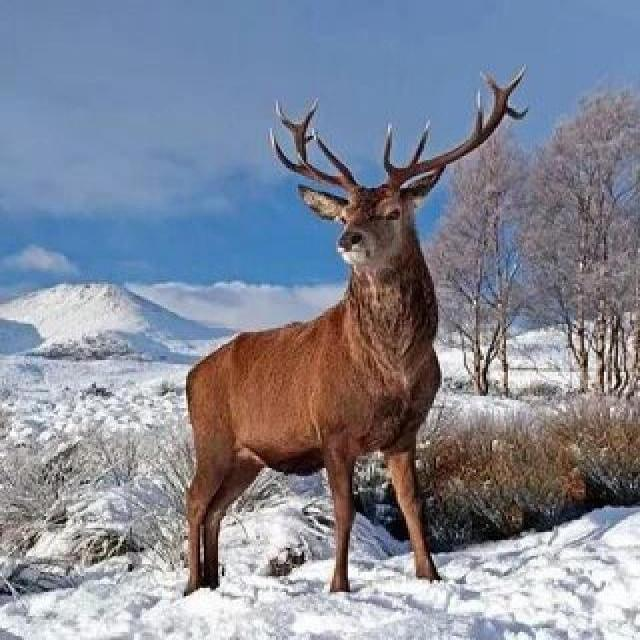deer: (168, 71, 552, 558)
